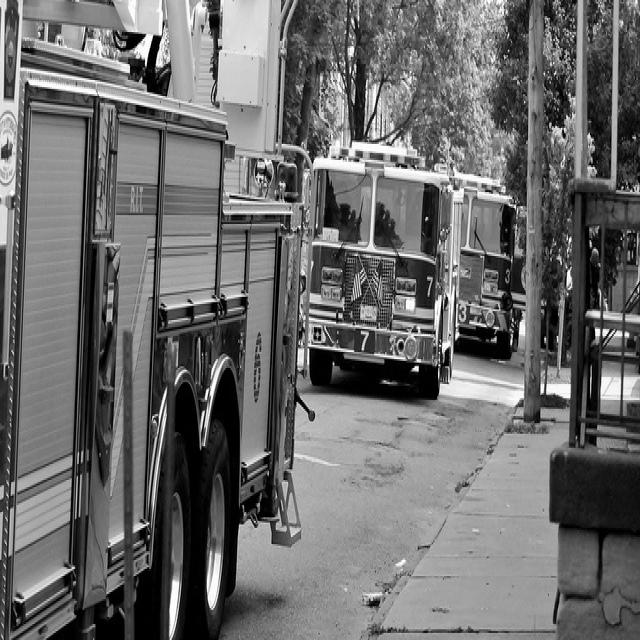pole: (519, 2, 547, 421)
truck: (0, 0, 316, 628), (306, 135, 461, 391), (452, 165, 517, 363), (512, 203, 526, 309)
